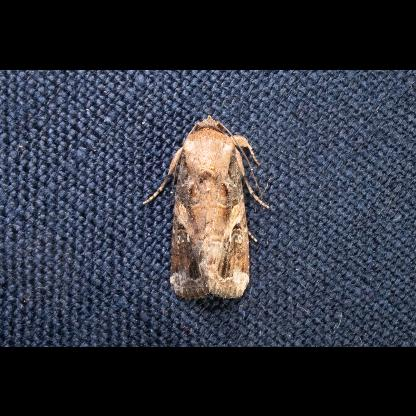Fall Armyworm Moth: (140, 112, 272, 302)
